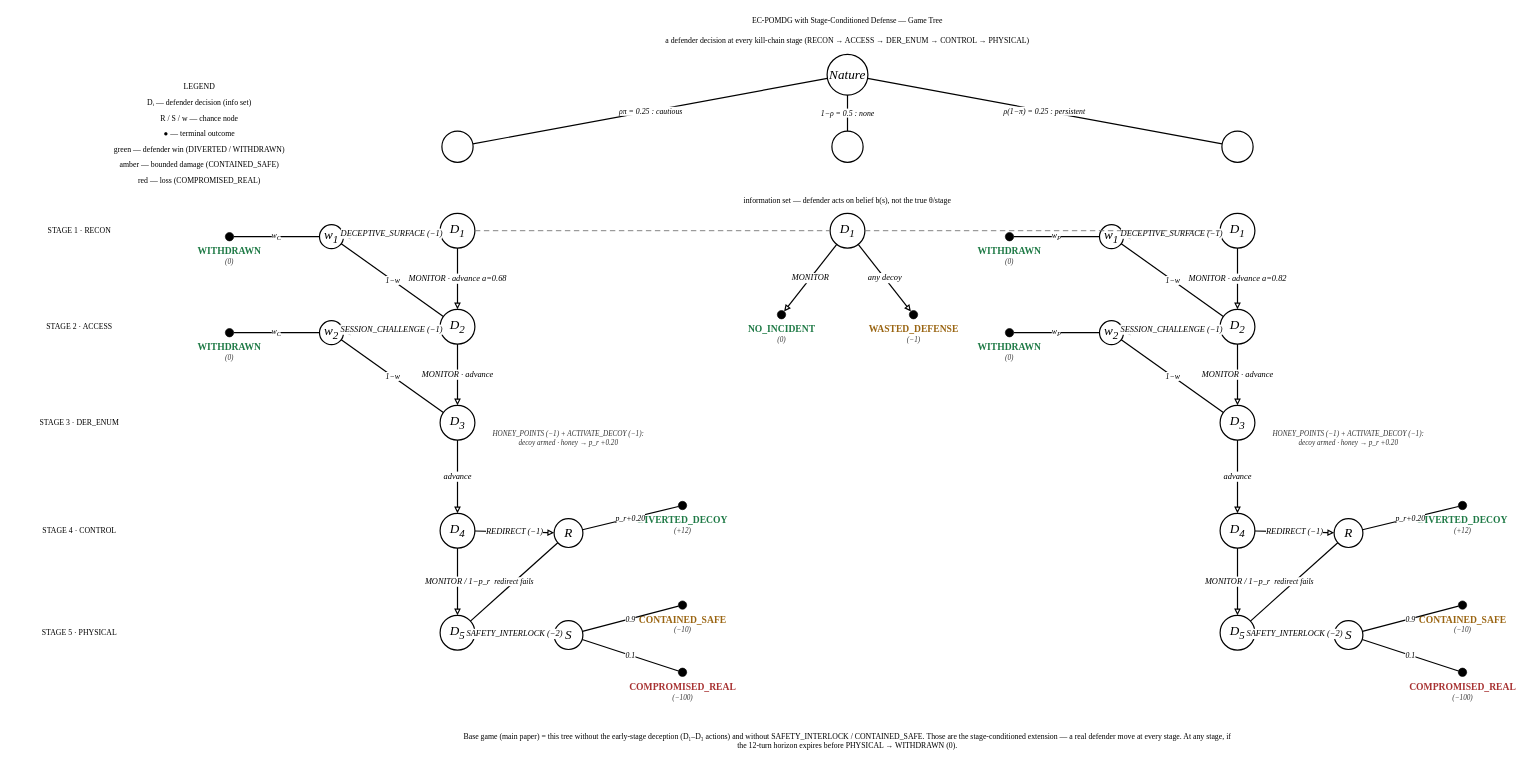
The diagram is 1526 pixels wide and 769 high, and some of its shapes have lost their labels. Here are the shapes that lost their labels. From the top down, the box of each, then its label:
(441, 130, 473, 163): θ C
(831, 130, 863, 163): θ 0
(1221, 130, 1253, 163): θ P
